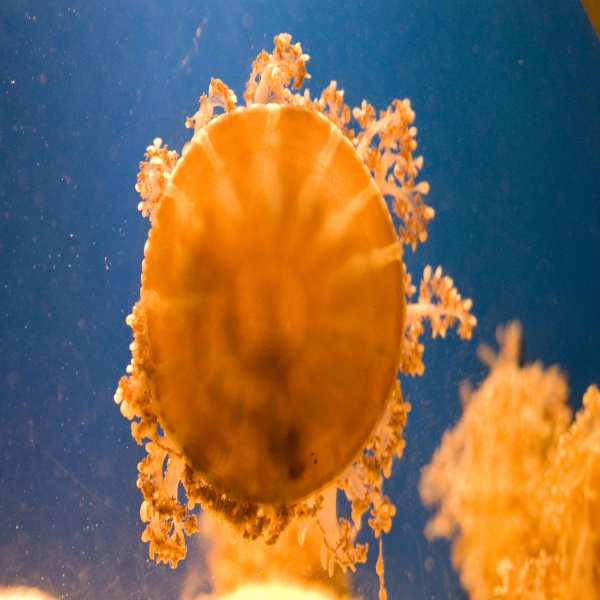Jellyfish: (111, 32, 475, 579), (414, 303, 595, 580)
